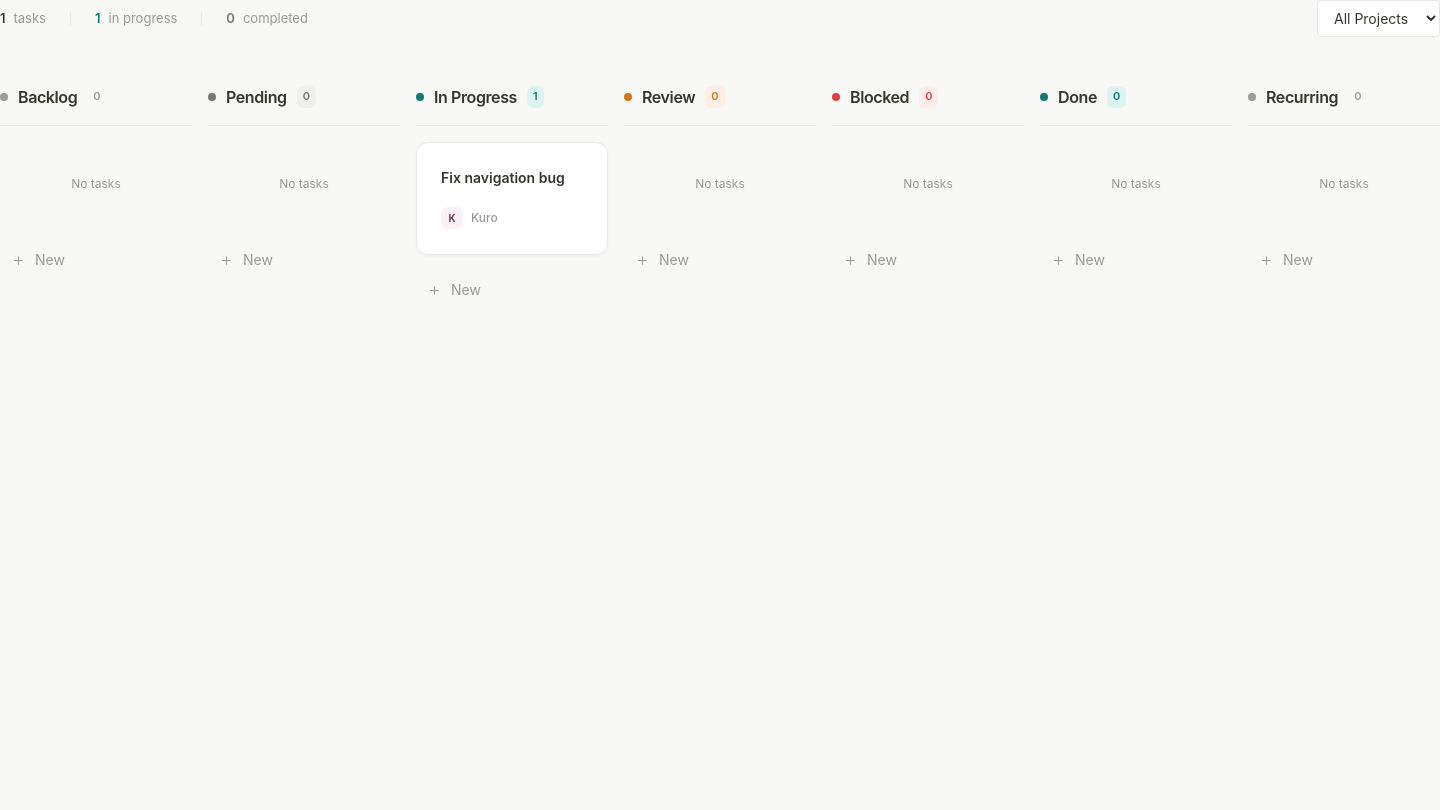
TaskBoard › shows card detail when clicked
// Click on the task card to expand it
Click the text "Fix navigation bug": (503, 178) x1=441 y1=167 x2=583 y2=230
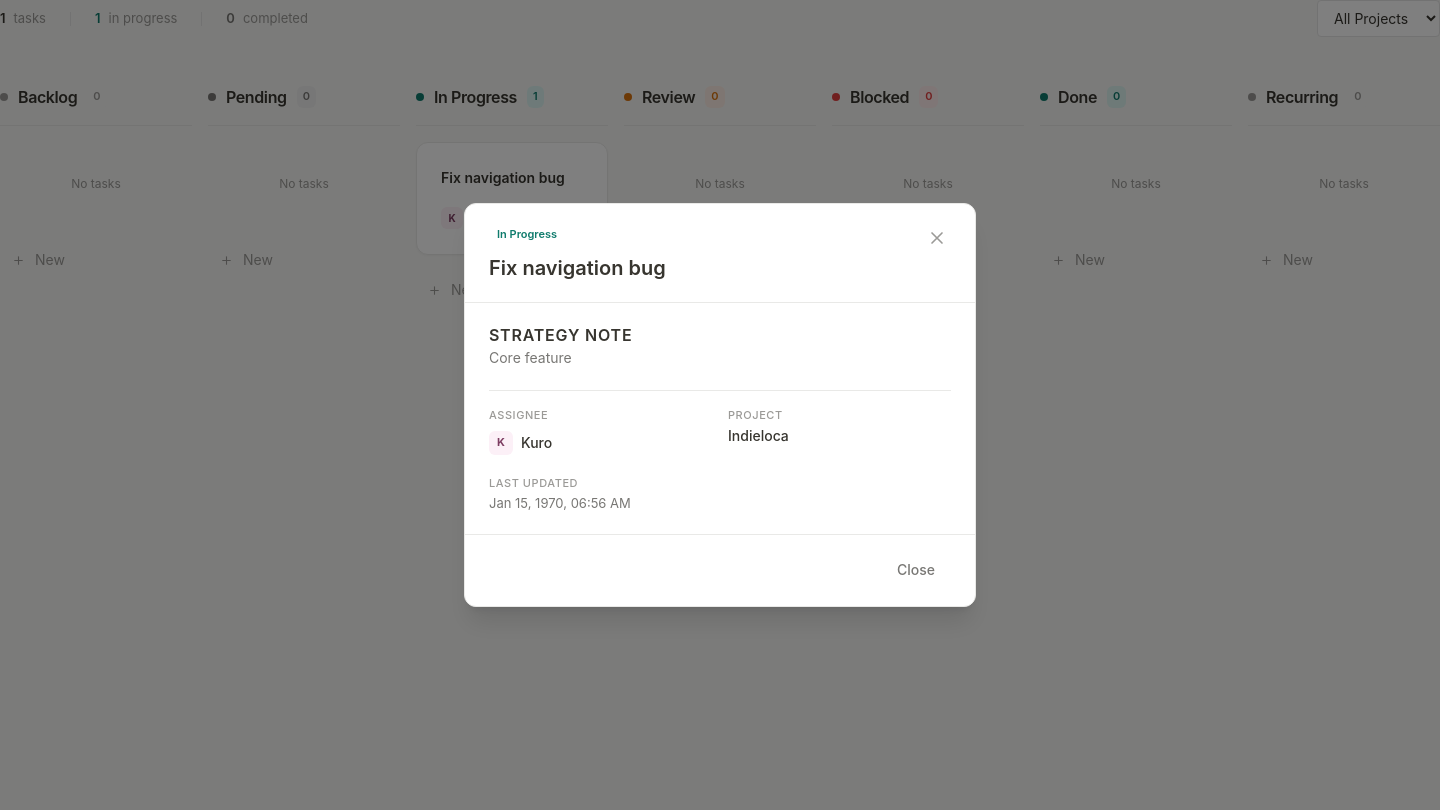
Now the text "Assignee" is shown, box x1=489 y1=408 x2=548 y2=422
Now the text "Core feature" is shown, box x1=489 y1=349 x2=572 y2=366
